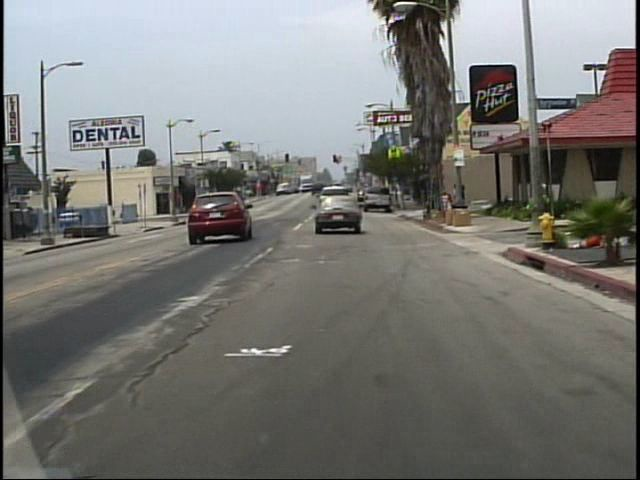person: (457, 182, 466, 210), (452, 185, 459, 208)
